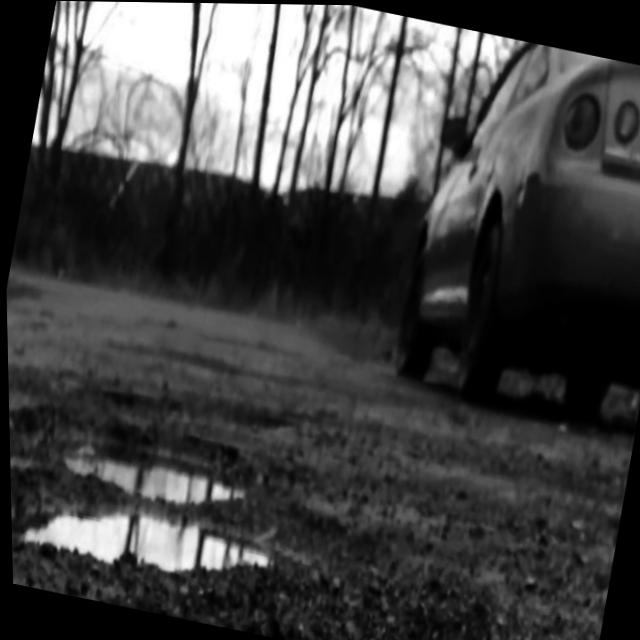pathole: (20, 503, 267, 573), (63, 451, 242, 506)
